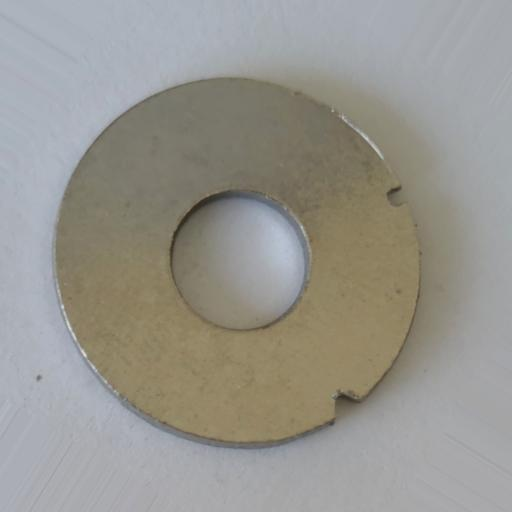burr: (332, 389, 362, 420), (385, 185, 407, 207)
